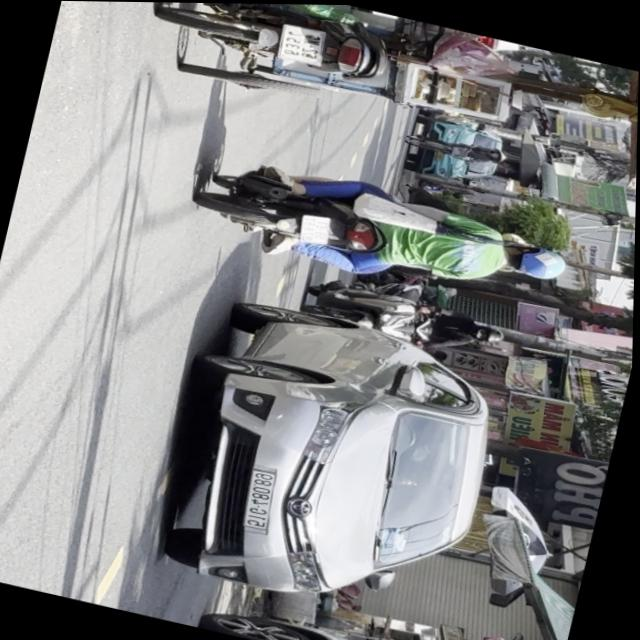helmet: (503, 237, 572, 284), (474, 322, 509, 345)
licenseplate: (184, 141, 583, 321), (300, 271, 513, 366)
nohelmet: (277, 22, 327, 64), (299, 211, 334, 245)
